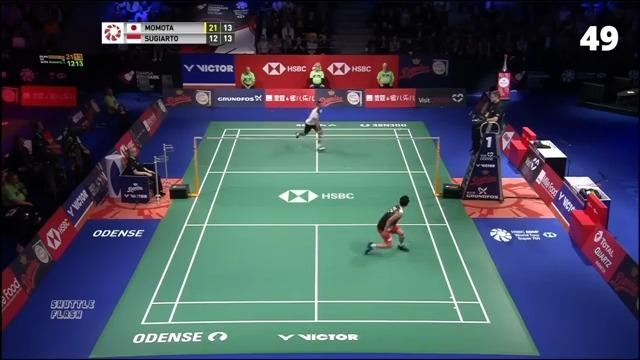Shuttlecock: (397, 127, 403, 131)
